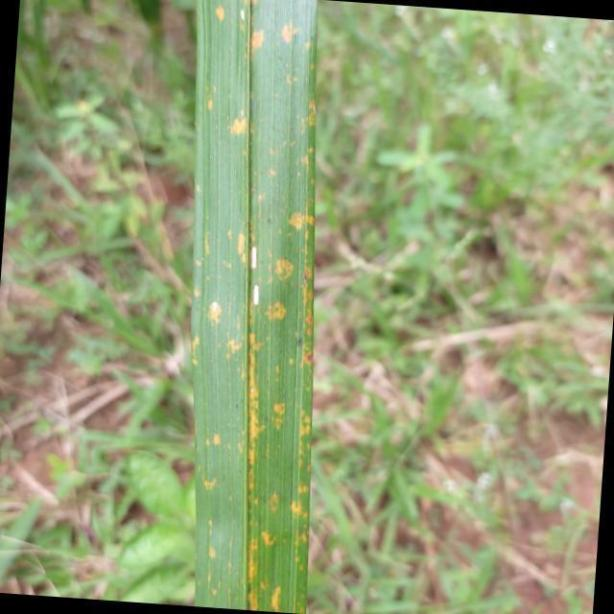Kalium: (190, 0, 317, 614)
